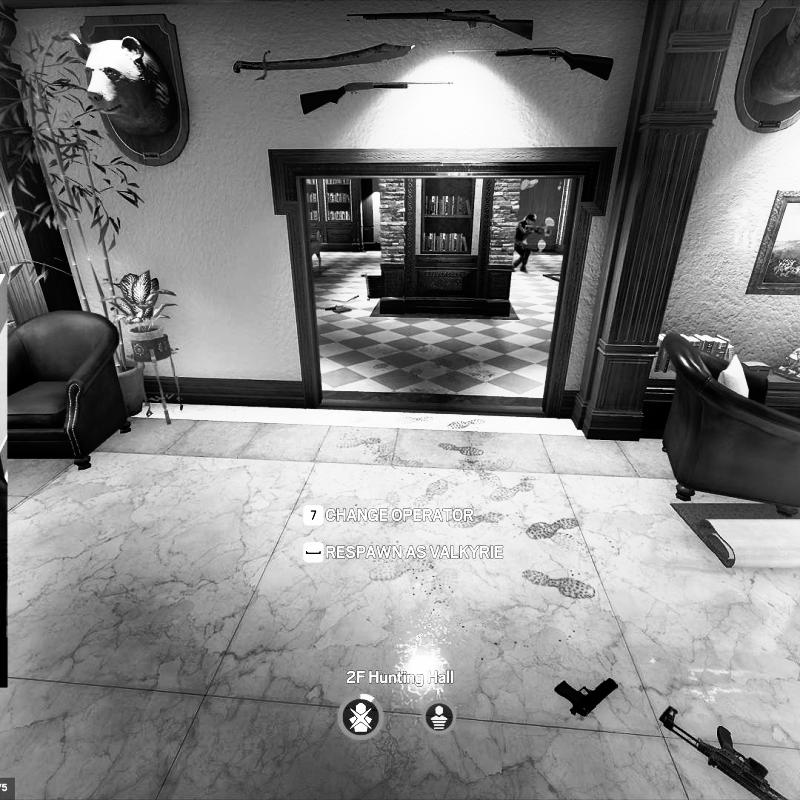Character: (511, 212, 546, 274)
Head: (525, 213, 536, 226)
